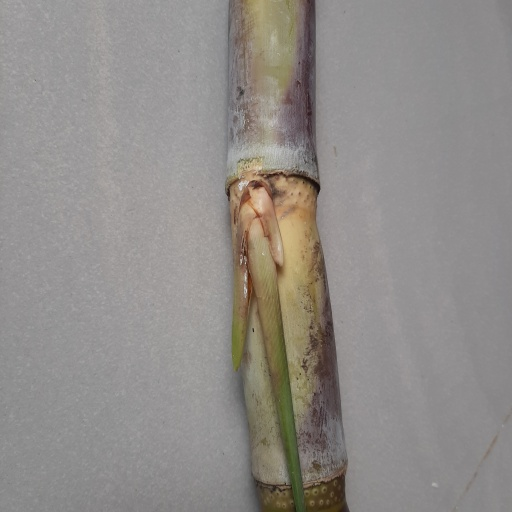Sprouted_Bud: (232, 178, 284, 277)
